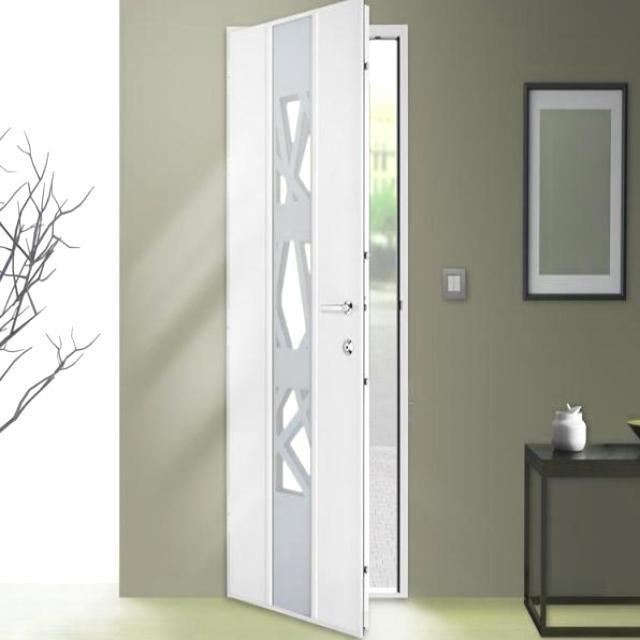door: (225, 1, 371, 640)
